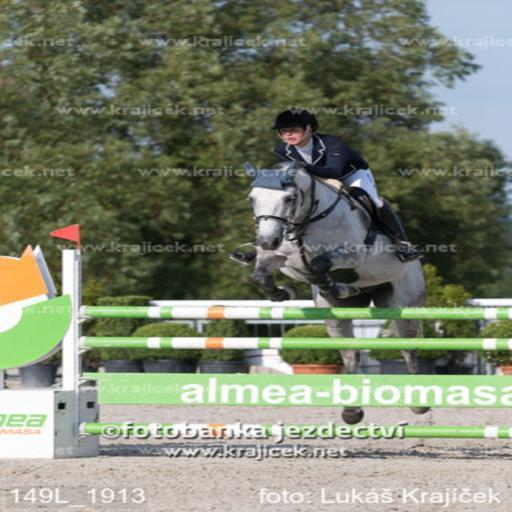horse: (229, 158, 434, 426)
